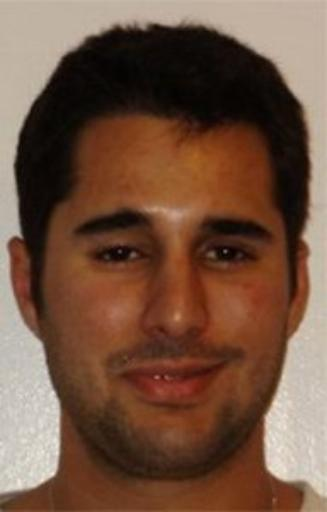left_eye: (199, 242, 257, 272)
left_lip_corner: (215, 353, 234, 376)
right_eye: (83, 242, 151, 269)
right_lip_corner: (115, 364, 141, 386)
